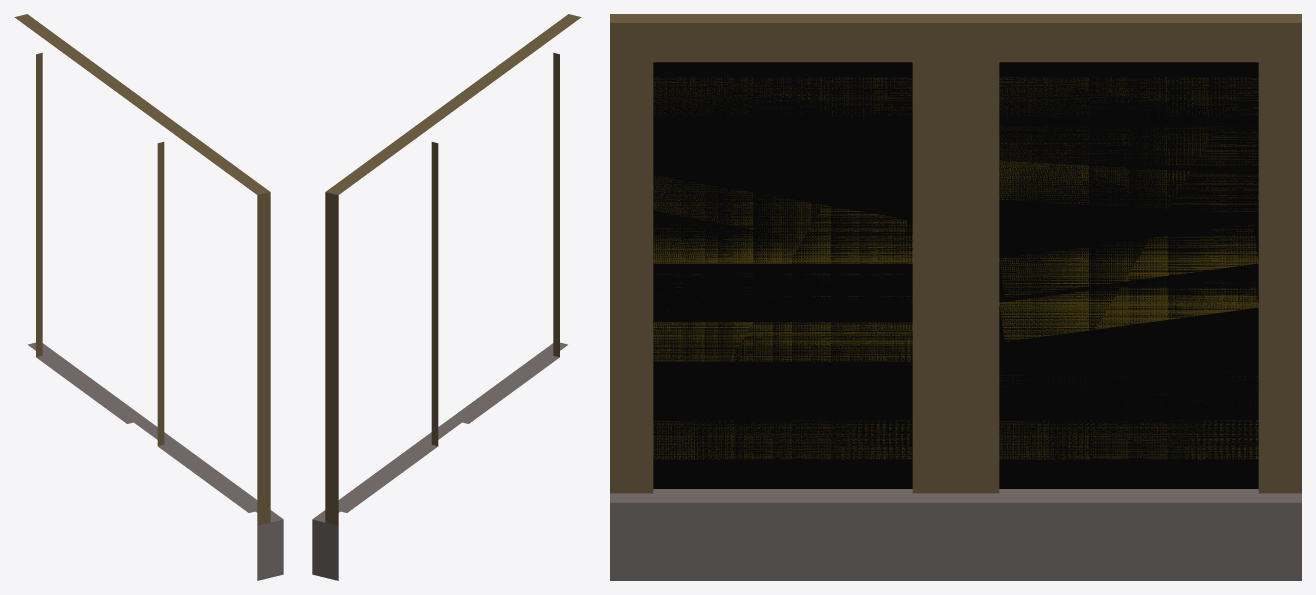
The picture shows the model from 3 angles, left to right: view 1: azimuth 30°, elevation 25°; view 2: azimuth 150°, elevation 25°; view 3: azimuth 270°, elevation 25°; orthographic projection. The views are drawn at different scales.
Bounding box in the file's own units: 8 × 112 × 128.
Materials: 1 (1 with a texture image).
